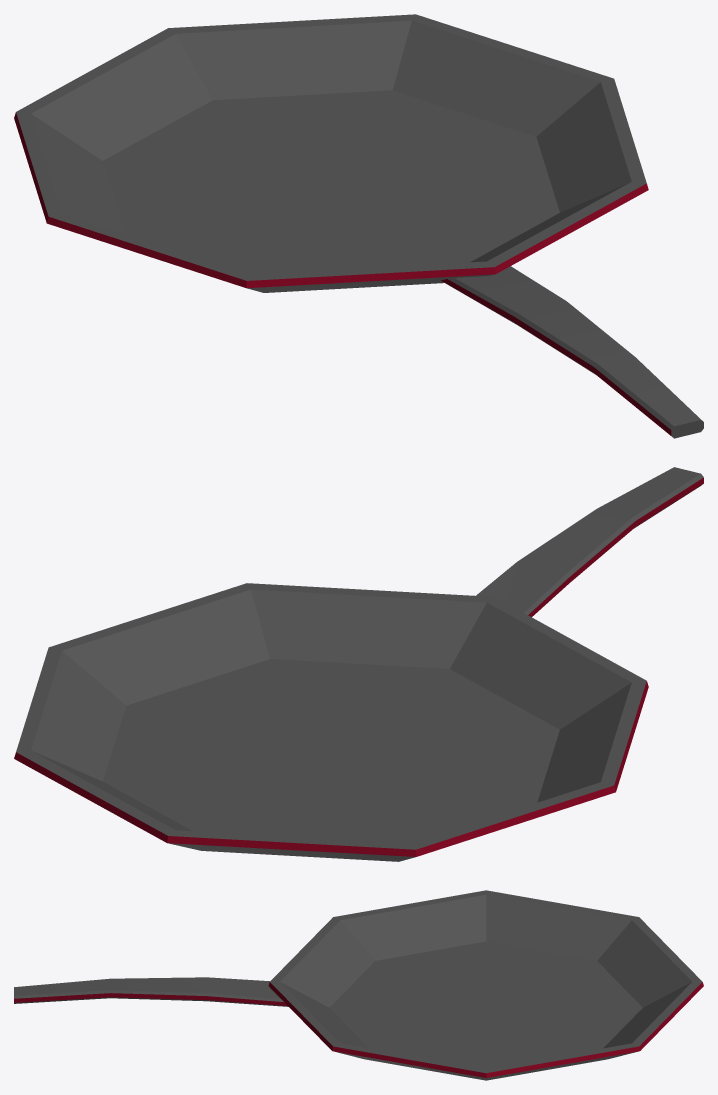
The model's file is Skillet.fbx.
The picture shows the model from 3 angles, top to bottom: view 1: azimuth 30°, elevation 25°; view 2: azimuth 150°, elevation 25°; view 3: azimuth 270°, elevation 25°; orthographic projection. The views are drawn at different scales.
Visible parts, largest first — view 1: Skillet; view 2: Skillet; view 3: Skillet.
Part boxes in pixels (bbox=[...]): Skillet: bbox=[14, 14, 703, 438]; Skillet: bbox=[14, 467, 703, 861]; Skillet: bbox=[14, 890, 703, 1080].
Size of the model in its own units: 39.15 by 3 by 62.02.
